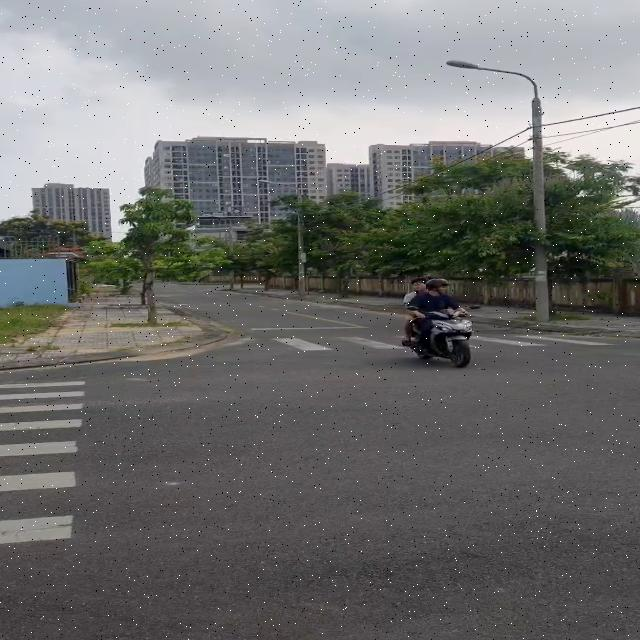helmet: (425, 278, 449, 299)
